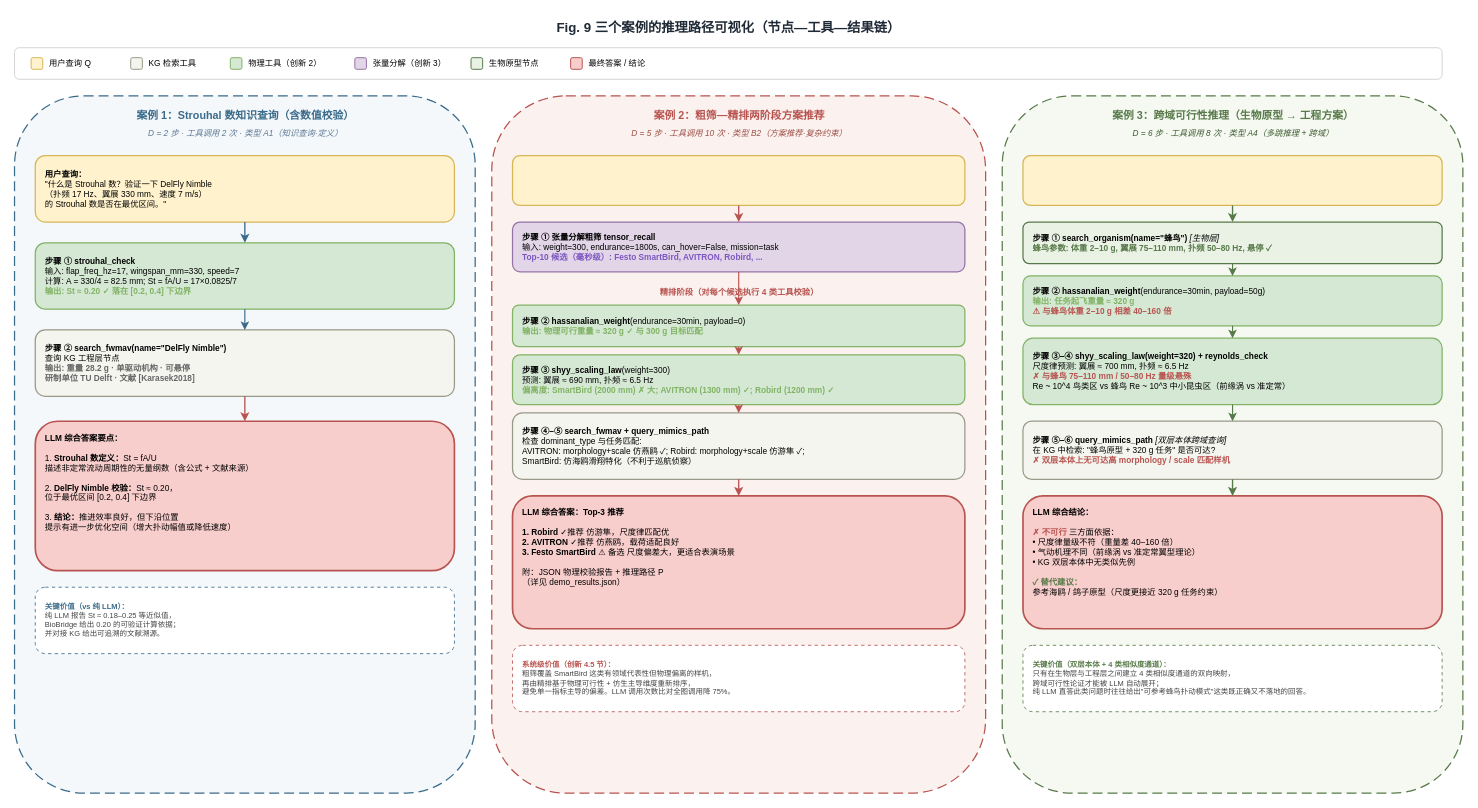
Some shapes in this 1478 by 808 pixel diagram are drawn without their labels. Each missing label, with the centre of its shape:
用户查询： "想做一架续航 30 分钟、载重 50 g 的扑翼机， 参考蜂鸟原型可行吗？": (1232,180)
用户查询： "推荐一架重量 300 g 左右、续航 30 分钟以上、 用于户外巡航侦察的扑翼机。": (738,180)
